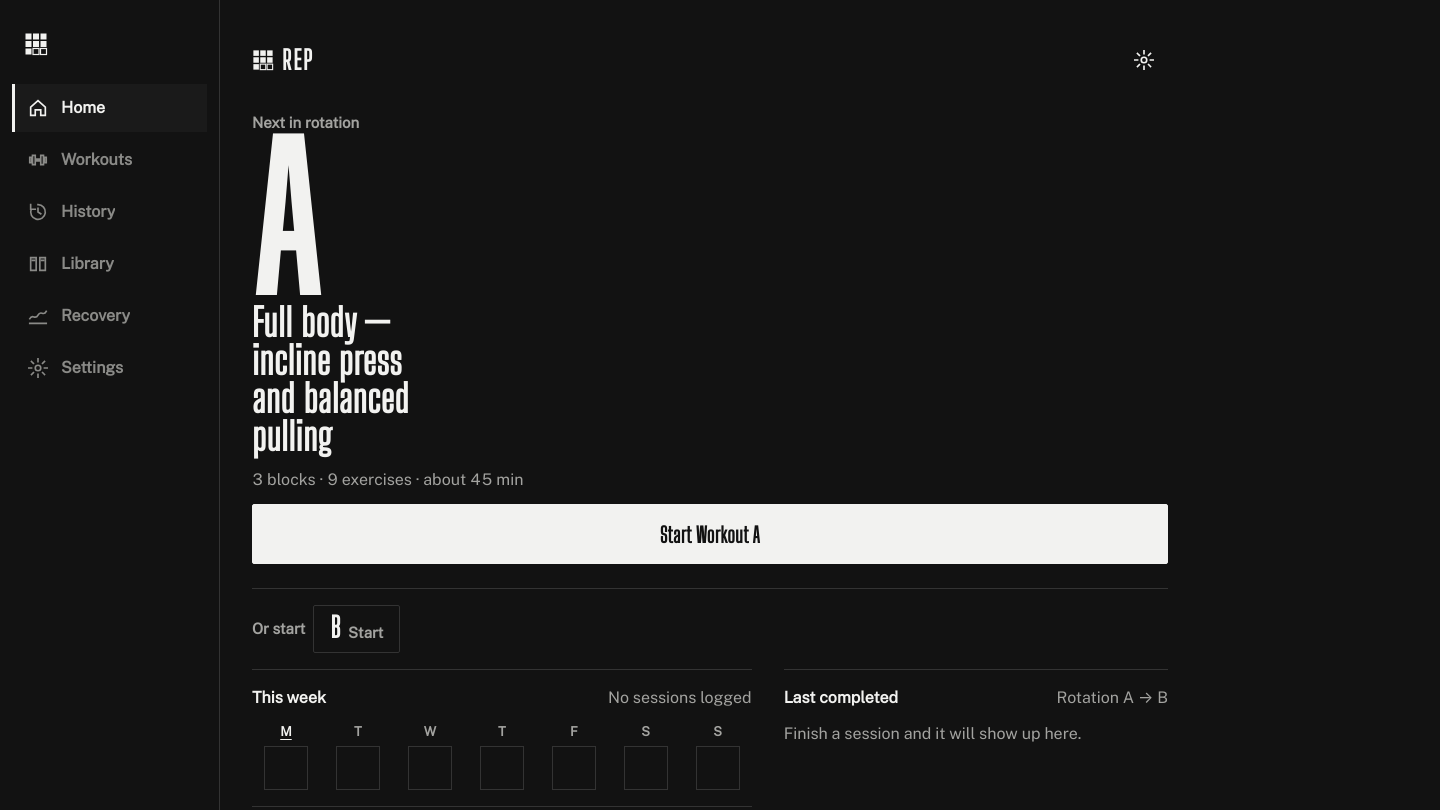
Test: Active workout › shows position, prescription and honest last-session state
Click the button "Start Workout A".
click(710, 534)  # box [252,504,1168,564]
(page scrolled)
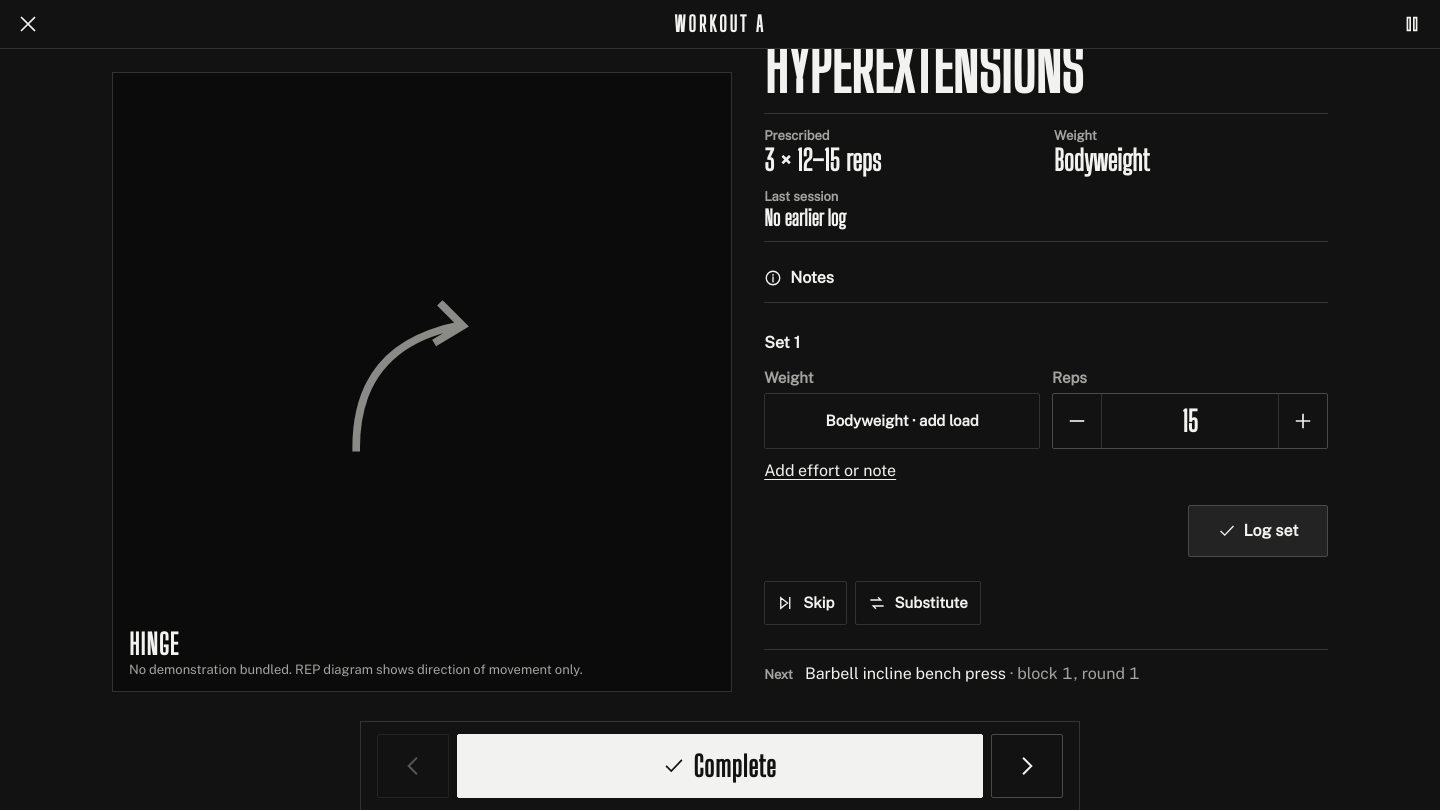
Now the heading "Hyperextensions" is shown, box [764,30,1083,106]
Now the text "3 × 12–15 reps" is shown, box [764,143,881,177]
Now the text "Bodyweight" is shown, box [1054,143,1149,177]
